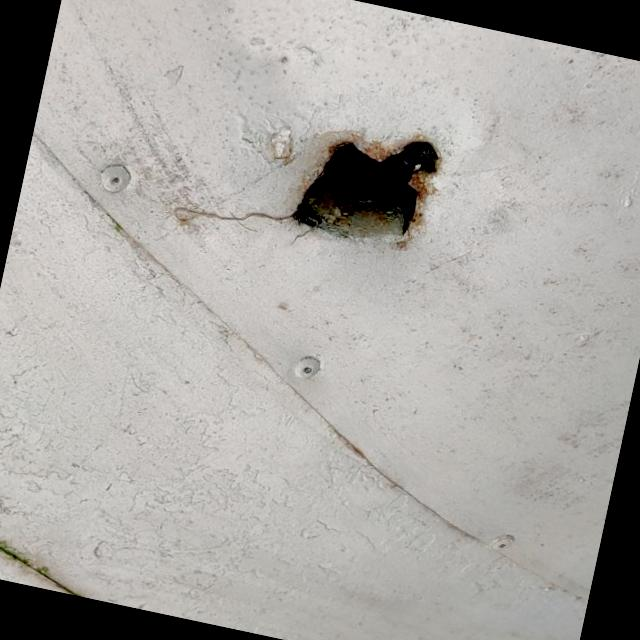crack: (153, 71, 470, 296)
